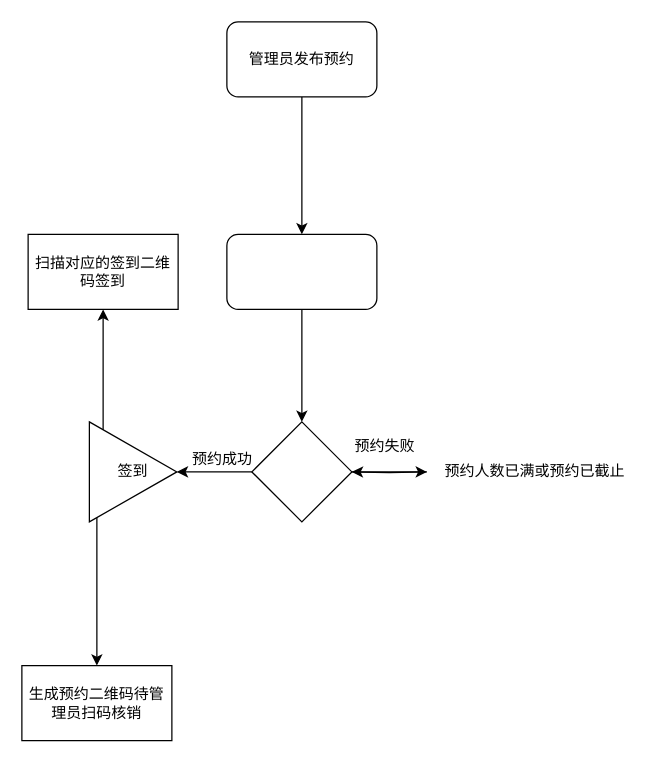
Image size: 663x763. Some labels were removed from this diagram. Here are the shapes that lost their labels. From the top down, the centre of each, then its label:
At point 301,271: "用户进行预约".
At point 301,471: "预约结果".
